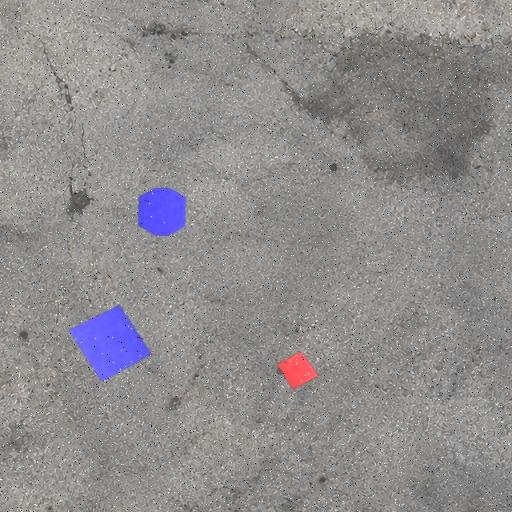BLUE_SQUARE: (68, 304, 153, 382)
RED_SQUARE: (276, 352, 319, 390)
